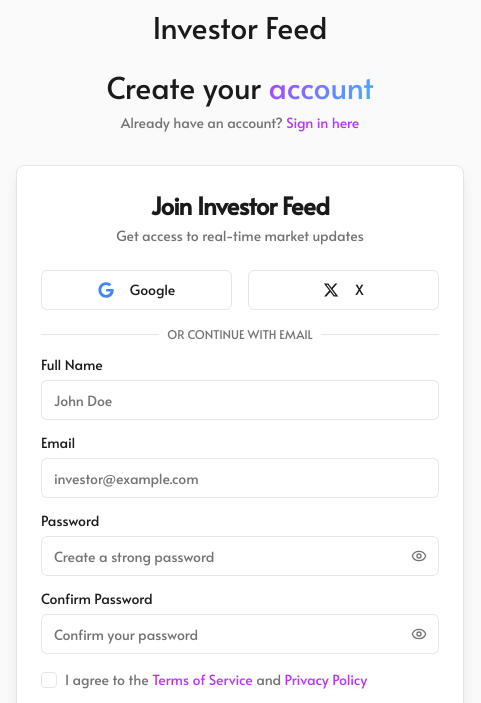
Test: Signup Page › should validate password confirmation match
Type "Test123!" into the password field labelled "Password" at (240, 556), box [41,536,439,576]
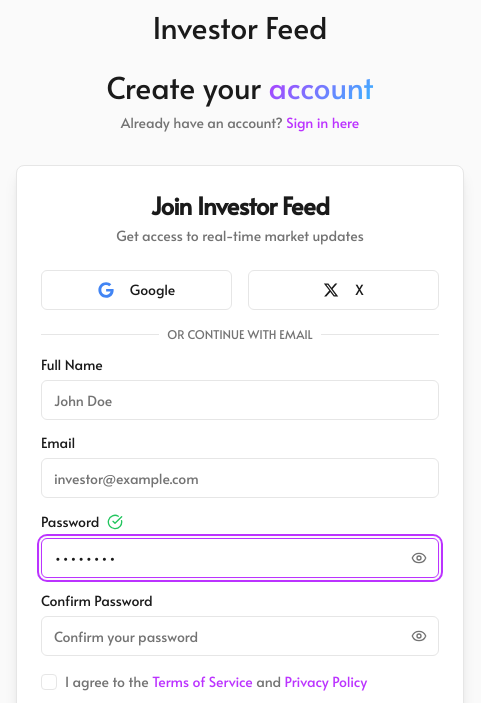
Type "Different123!" into the password field labelled "Confirm Password" at (240, 636), box [41,616,439,656]
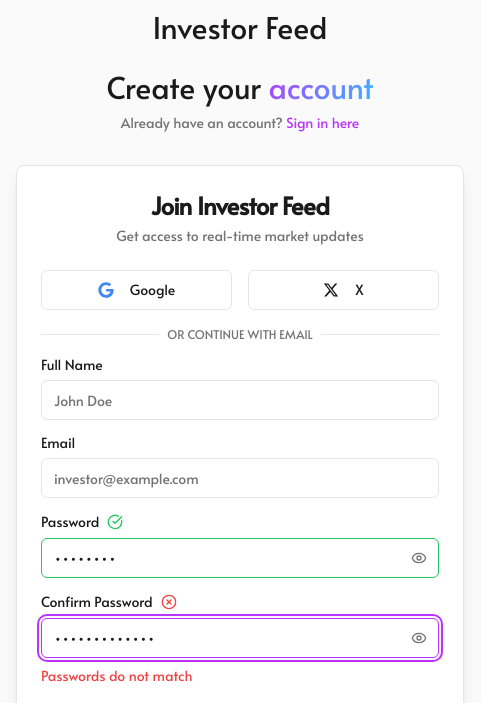
Expected: the text "Passwords do not match" is shown, [41,666,193,685]
